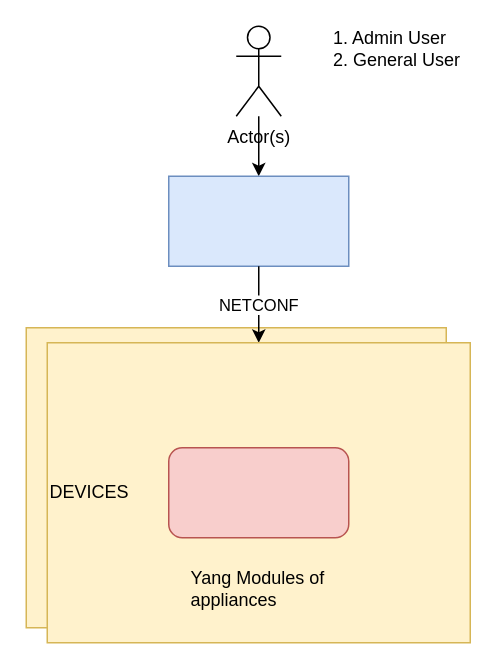
The diagram is 503 pixels wide and 669 high, and some of its shapes have lost their labels. Here are the shapes that lost their labels. From the top down, the centre of each, then its label:
At pixel 258 220: "SHM Clients".
At pixel 258 492: "NETCONF SERVER".
